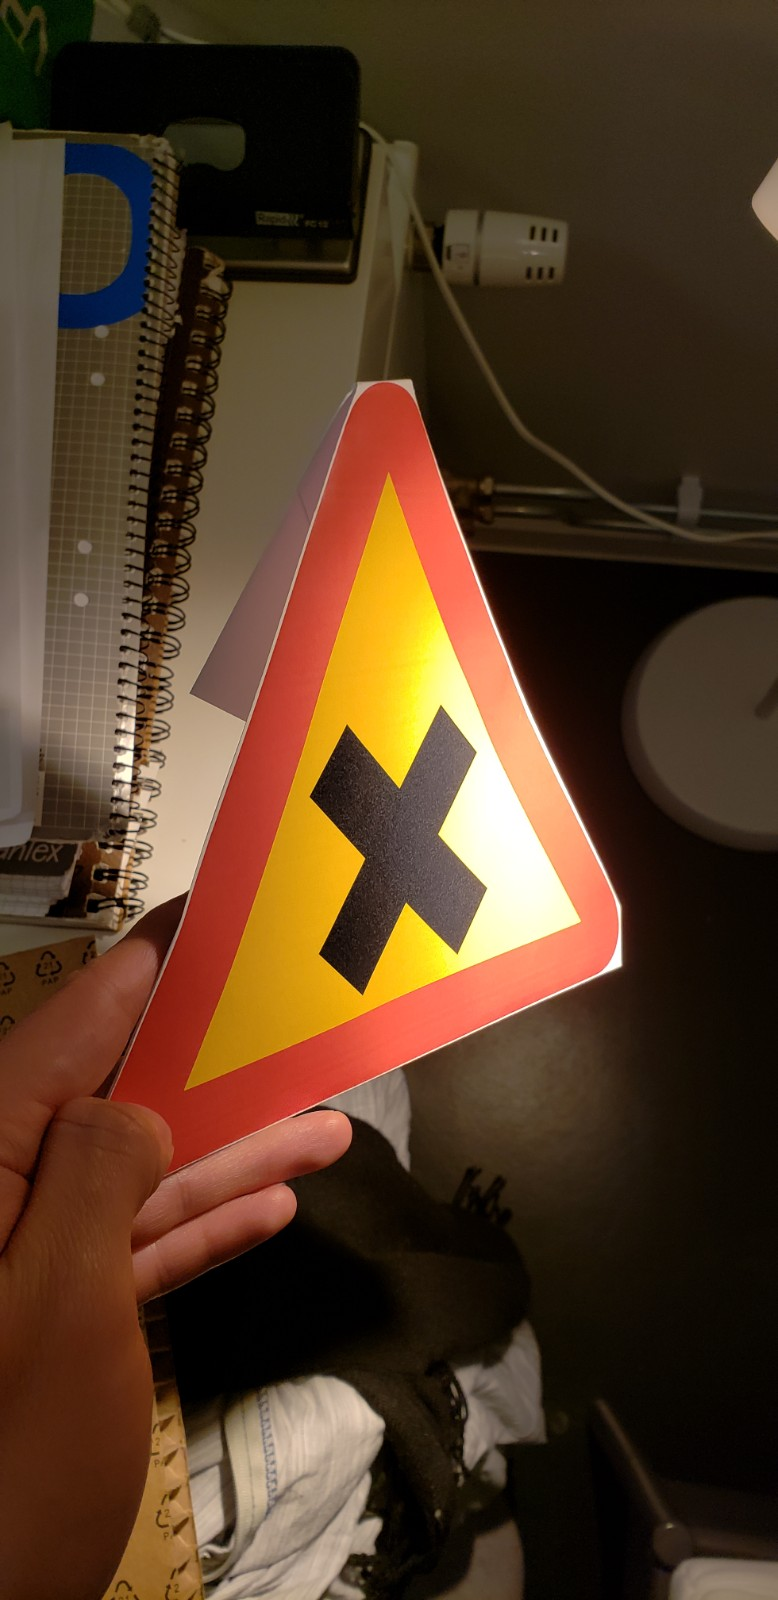junction: (21, 371, 736, 1229)
